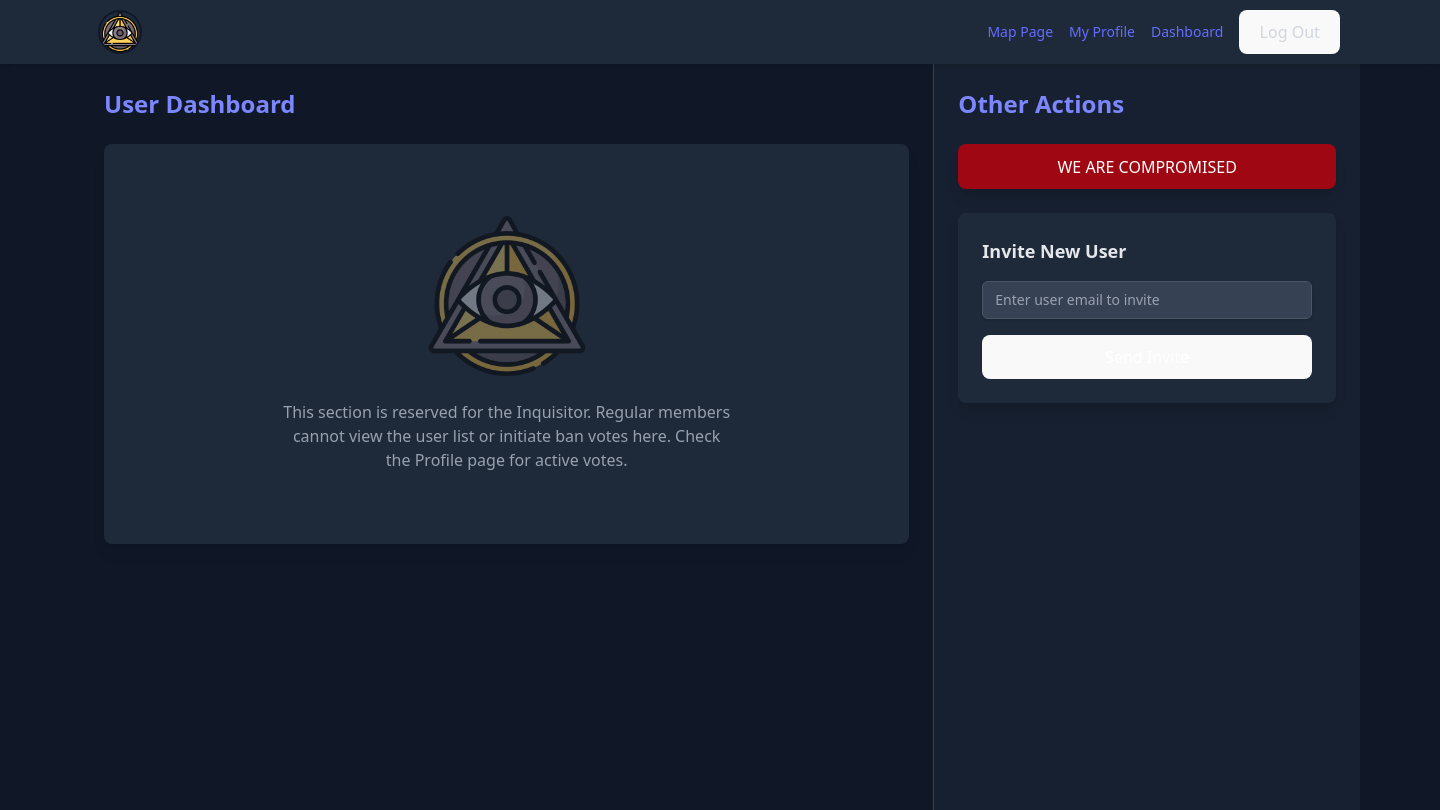
Test case: Compromised workflow › confirm compromised workfloww
Click the button "WE ARE COMPROMISED" at (1147, 167), box [958,144,1336,189]
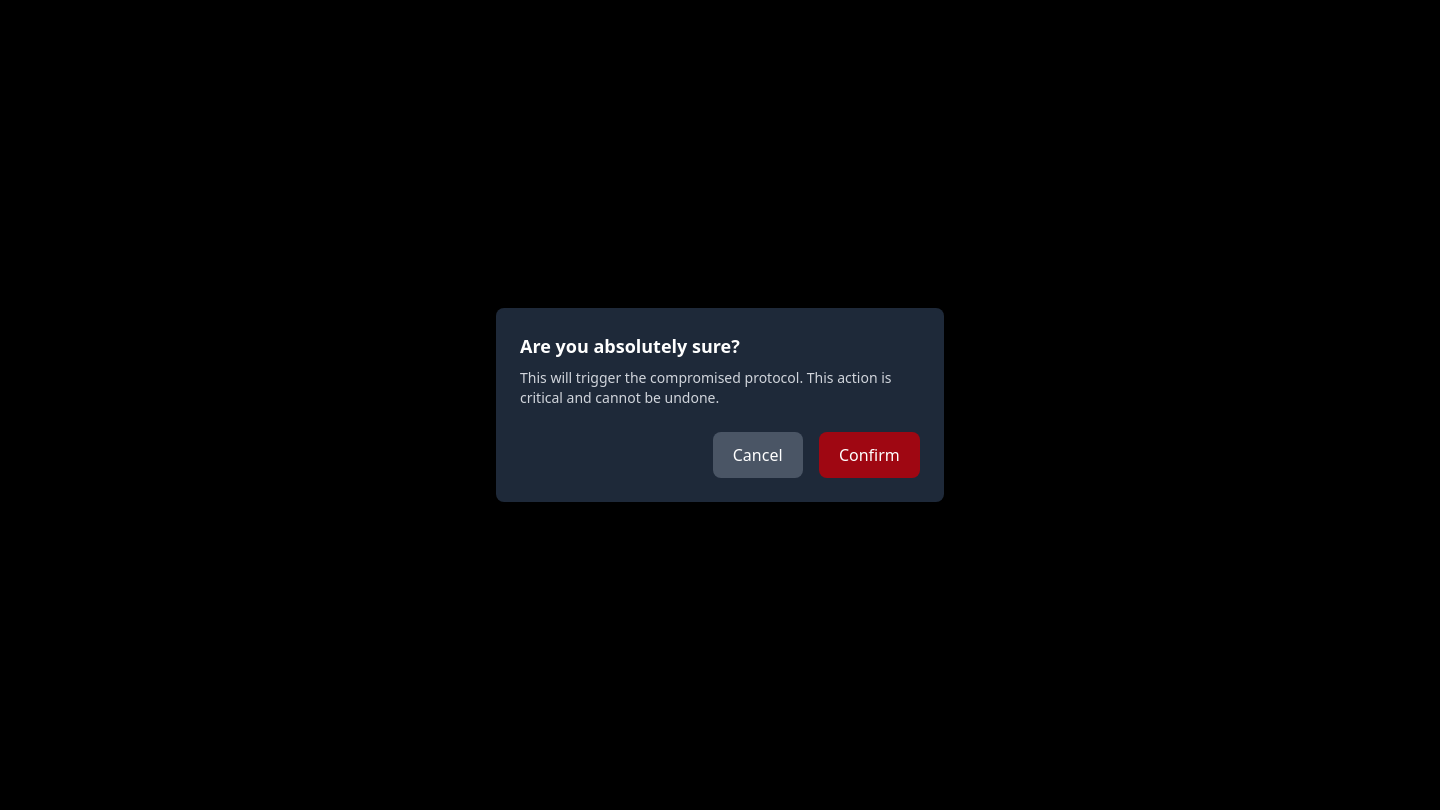
Click the button "Confirm" at (869, 455), box [819,432,920,478]
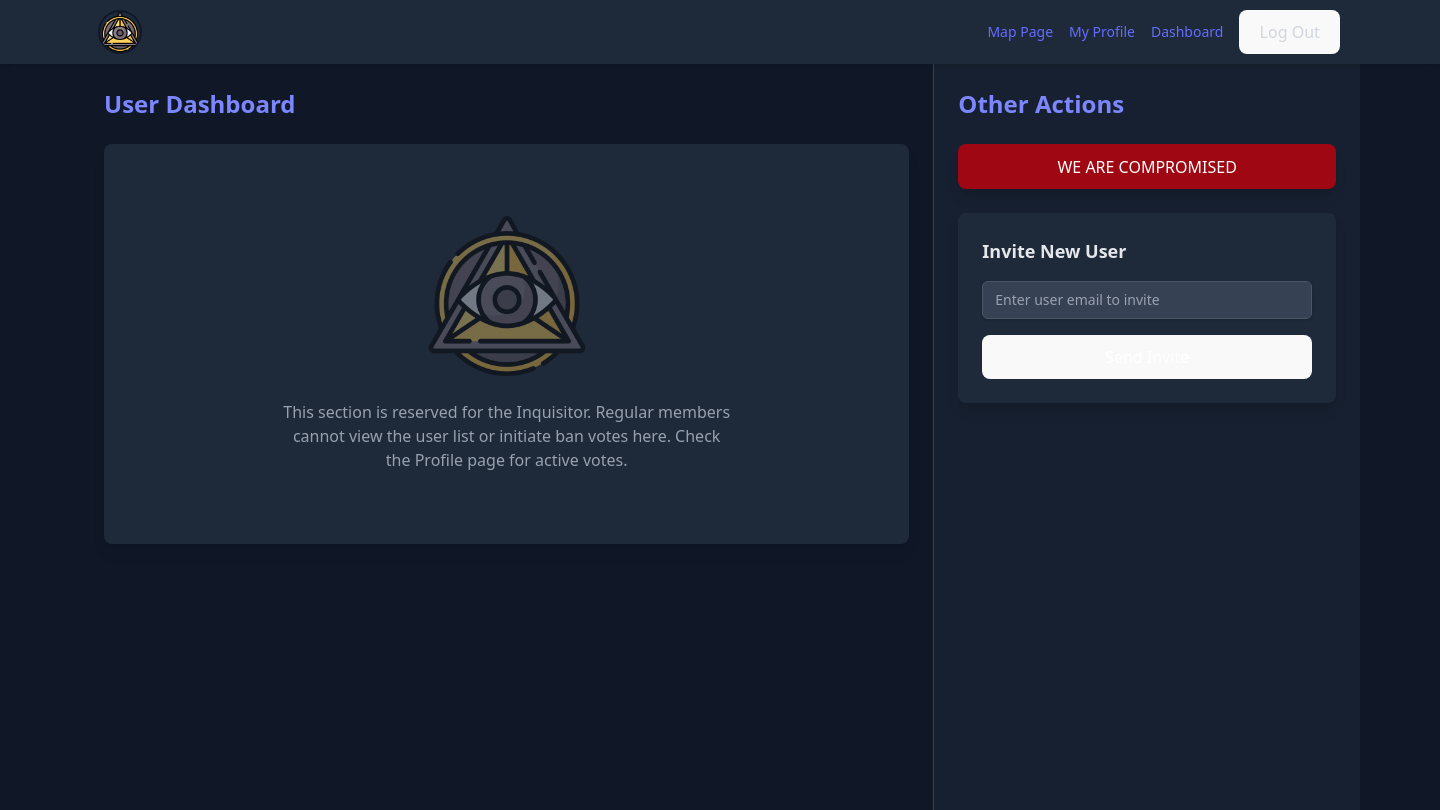
Check: the heading "Are you absolutely sure" is gone
